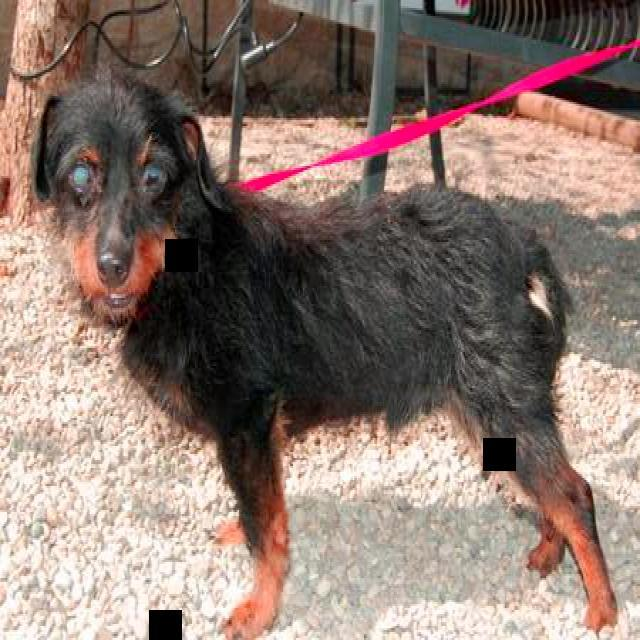adult_dog: (25, 69, 621, 640)
